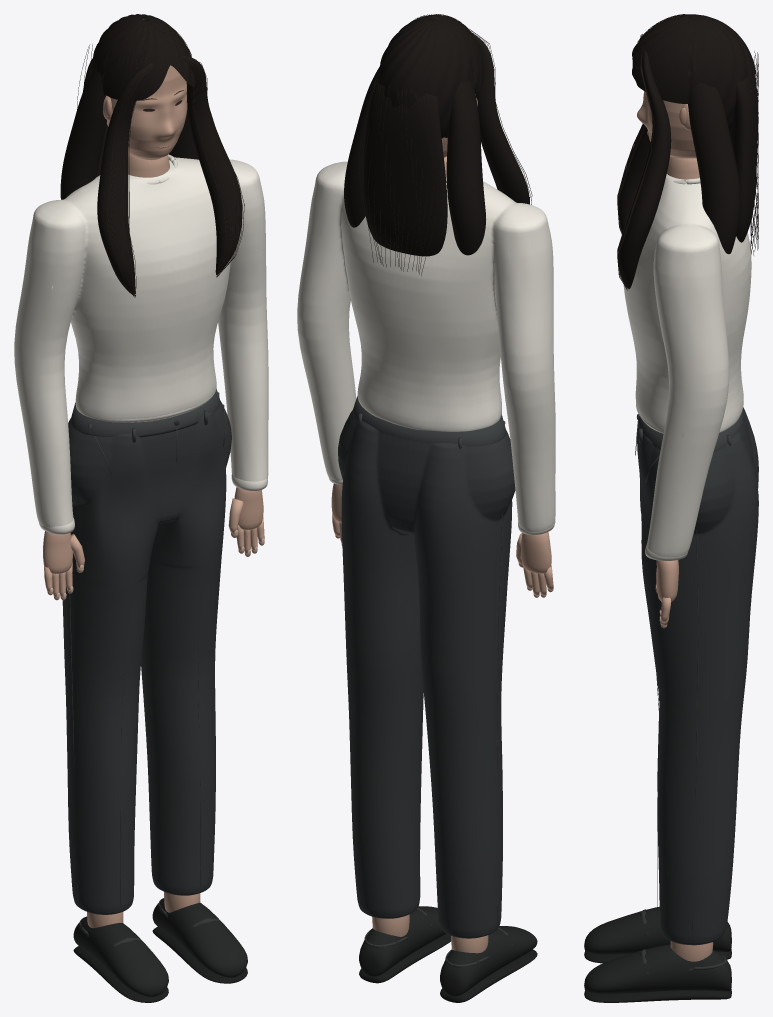
File: woman-original.glb
The picture shows the model from 3 angles, left to right: view 1: azimuth 30°, elevation 25°; view 2: azimuth 150°, elevation 25°; view 3: azimuth 270°, elevation 25°; orthographic projection. The views are drawn at different scales.
Visible parts, largest first — view 1: DEMIAND original woman 164cm; view 2: DEMIAND original woman 164cm; view 3: DEMIAND original woman 164cm.
Boxes of the visible parts, <box> form: DEMIAND original woman 164cm: <box>14,14,268,1002</box>; DEMIAND original woman 164cm: <box>297,14,555,1002</box>; DEMIAND original woman 164cm: <box>584,14,758,1002</box>.
Size of the model in its own units: 0.4444 by 1.64 by 0.271.
